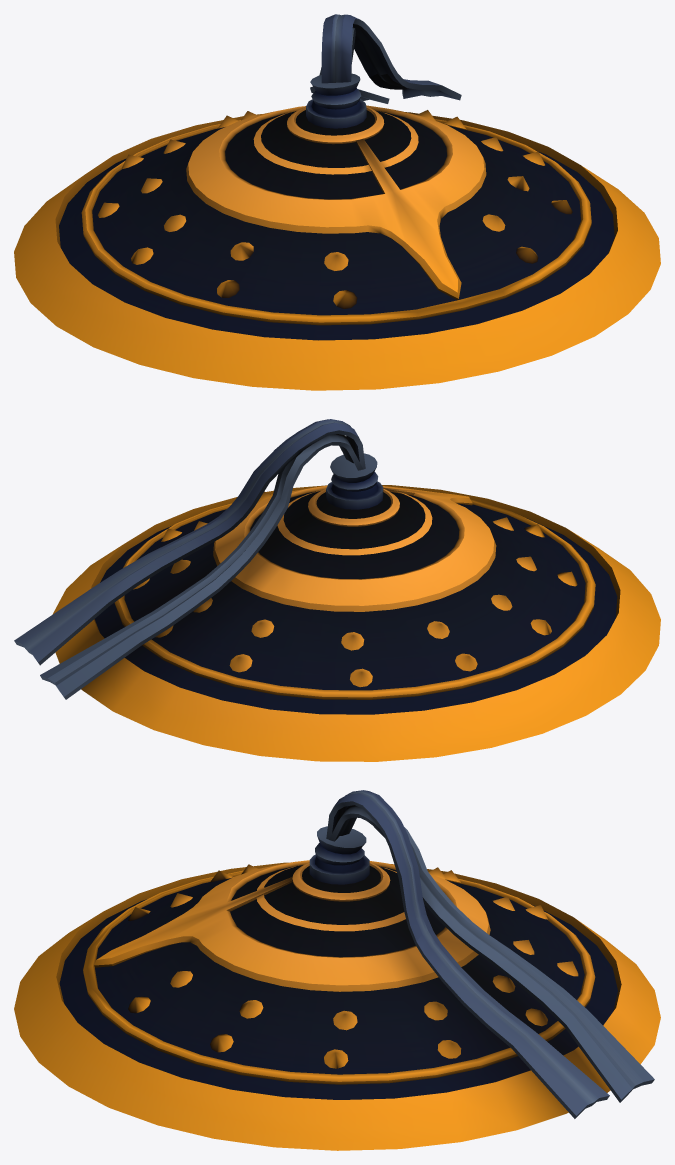
Rendered from Cap_Metallic_Cone_Hat.gltf.
3 views of the same model, one above another, from view 1: azimuth 30°, elevation 25°; view 2: azimuth 150°, elevation 25°; view 3: azimuth 270°, elevation 25° (orthographic). The views are drawn at different scales.
Parts seen in each view (by area): view 1: Cap_Metallic_Cone_Hat; view 2: Cap_Metallic_Cone_Hat; view 3: Cap_Metallic_Cone_Hat.
Boxes of the visible parts, x1,y1,x2,y2 form: Cap_Metallic_Cone_Hat: [14, 14, 660, 390]; Cap_Metallic_Cone_Hat: [14, 419, 660, 761]; Cap_Metallic_Cone_Hat: [14, 790, 660, 1150].
Bounding box in the file's own units: 1.23 × 0.4837 × 1.22.
Materials: 1 (1 with a texture image).
